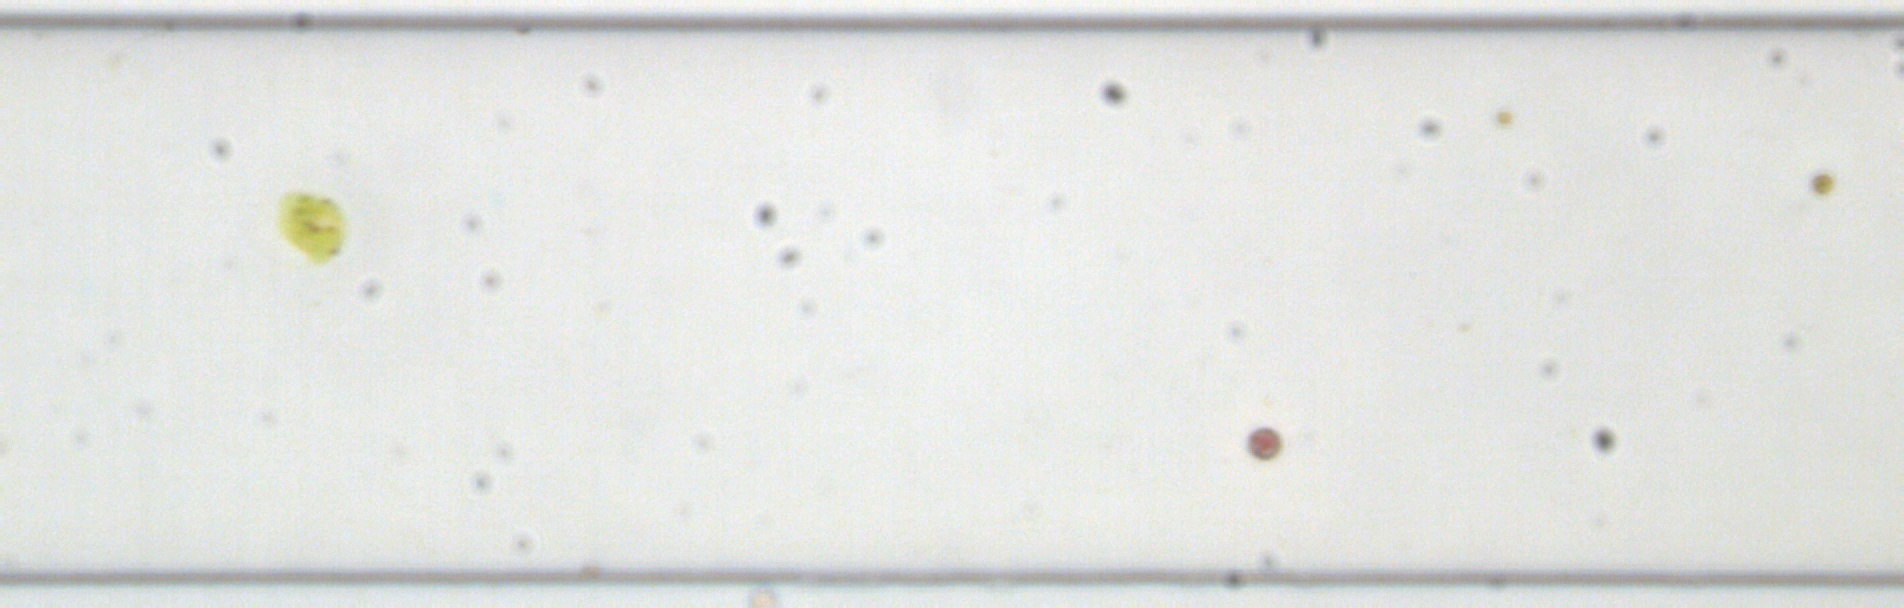Chlorella: (1808, 170, 1835, 197), (1494, 107, 1513, 127)
Haematococcus: (270, 184, 350, 265)
Porphyridium: (1243, 424, 1283, 461)
